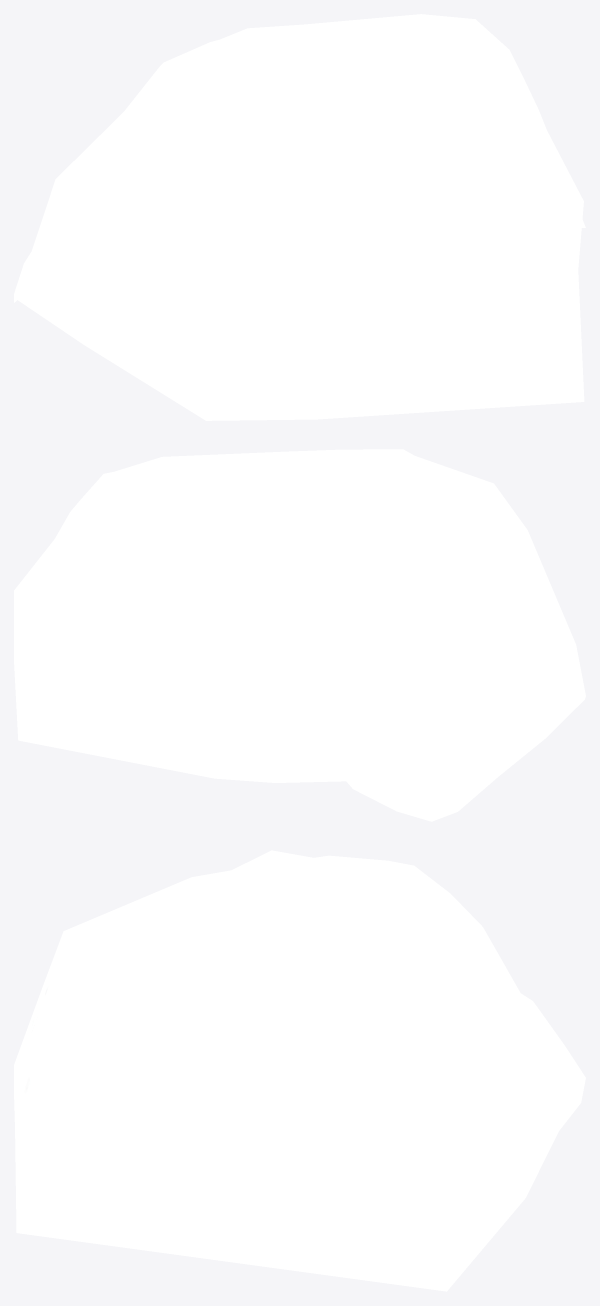
Rendered from hill.gltf.
3 views of the same model, one above another, from view 1: azimuth 30°, elevation 25°; view 2: azimuth 150°, elevation 25°; view 3: azimuth 270°, elevation 25° (orthographic). The views are drawn at different scales.
Parts seen in each view (by area): view 1: Icosphere; view 2: Icosphere; view 3: Icosphere.
Boxes of the visible parts, x1=… form: Icosphere: x1=14, y1=14, x2=585, y2=420; Icosphere: x1=14, y1=449, x2=585, y2=821; Icosphere: x1=14, y1=850, x2=585, y2=1291.
Size of the model in its own units: 3.1 by 1.64 by 2.89.
Materials: 1 (1 with a texture image).
